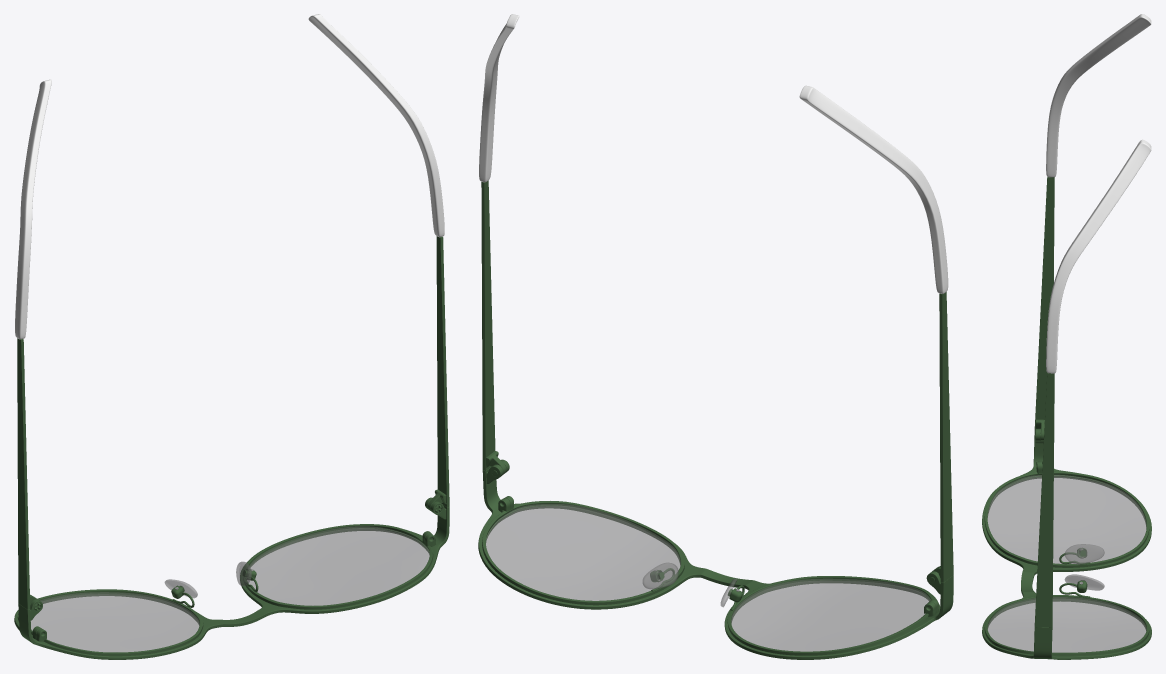
The picture shows the model from 3 angles, left to right: view 1: azimuth 30°, elevation 25°; view 2: azimuth 150°, elevation 25°; view 3: azimuth 270°, elevation 25°; orthographic projection. The views are drawn at different scales.
Visible parts, largest first — view 1: Metal 01, Gem 03, Finger Sizes; view 2: Gem 03, Metal 01, Finger Sizes; view 3: Metal 01, Gem 03, Finger Sizes.
Boxes of the visible parts, bbox=[...] form: Metal 01: bbox=[14, 14, 449, 659]; Gem 03: bbox=[31, 526, 429, 652]; Finger Sizes: bbox=[30, 489, 446, 641]; Gem 03: bbox=[486, 504, 930, 651]; Metal 01: bbox=[478, 14, 953, 659]; Finger Sizes: bbox=[486, 451, 940, 616]; Metal 01: bbox=[982, 14, 1151, 659]; Gem 03: bbox=[987, 475, 1146, 652]; Finger Sizes: bbox=[1035, 419, 1089, 597].
Bounding box in the file's own units: 22.82 × 27.22 × 8.22.
